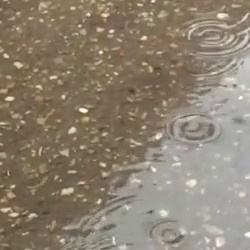drop: (178, 18, 247, 58), (165, 113, 221, 145), (151, 218, 185, 246), (25, 171, 47, 190), (230, 115, 245, 126)
